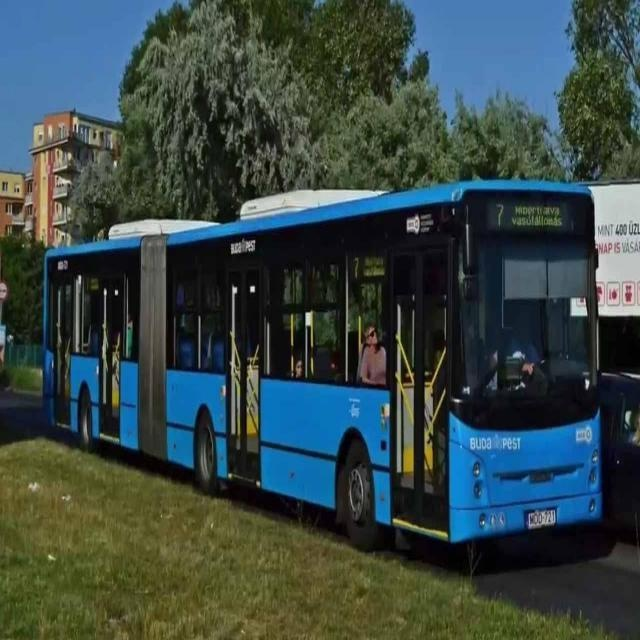bus: (19, 143, 624, 591)
